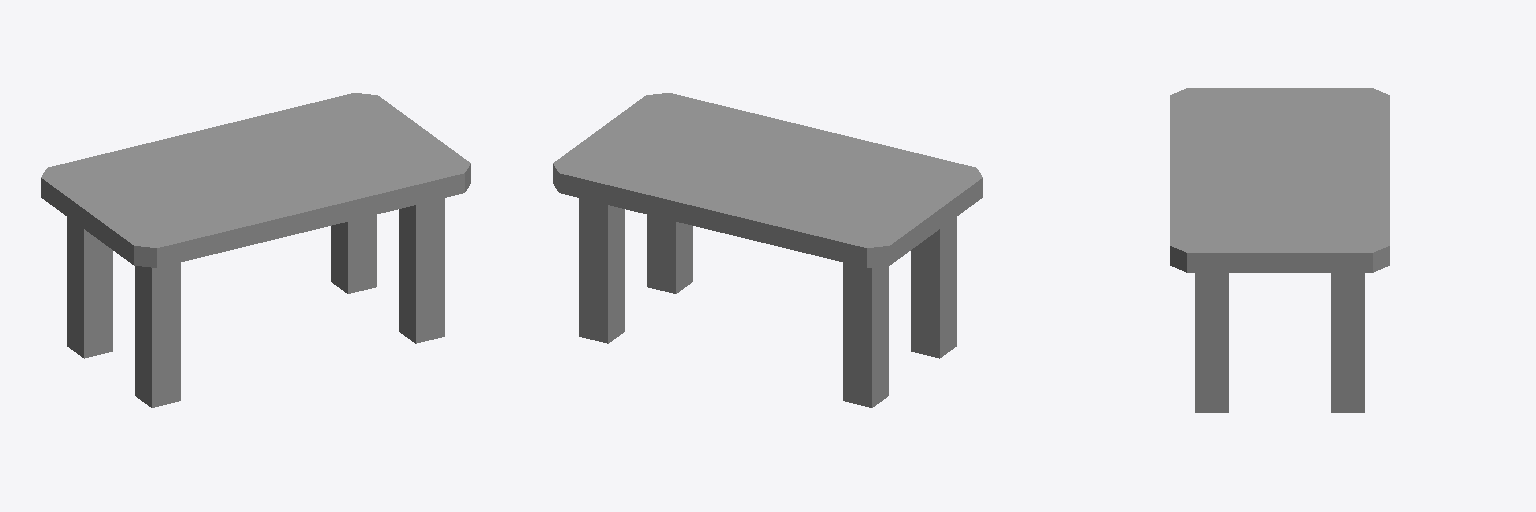
3 views of the same model, side by side, from view 1: azimuth 30°, elevation 25°; view 2: azimuth 150°, elevation 25°; view 3: azimuth 270°, elevation 25° (orthographic).
Visible parts, largest first — view 1: Table; view 2: Table; view 3: Table.
Boxes of the visible parts, x1,y1,x2,y2 form: Table: [41, 93, 470, 407]; Table: [553, 93, 982, 407]; Table: [1170, 88, 1389, 412].
Bounding box in the file's own units: 2.38 × 1.16 × 1.35.